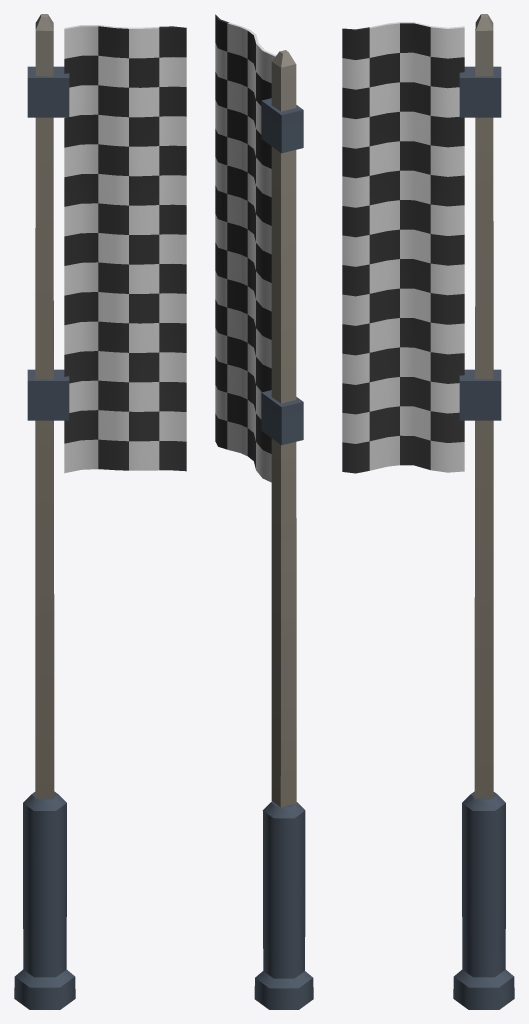
File: FlagRace_C.fbx
3 views of the same model, side by side, from view 1: azimuth 90°, elevation 25°; view 2: azimuth 210°, elevation 25°; view 3: azimuth 270°, elevation 25° (orthographic). The views are drawn at different scales.
Parts seen in each view (by area): view 1: FlagRace_C; view 2: FlagRace_C; view 3: FlagRace_C.
Boxes of the visible parts, x1,y1,x2,y2 form: FlagRace_C: [14, 14, 186, 1009]; FlagRace_C: [215, 14, 313, 1009]; FlagRace_C: [342, 14, 514, 1009].
Bounding box in the file's own units: 62.3 × 1269 × 202.
